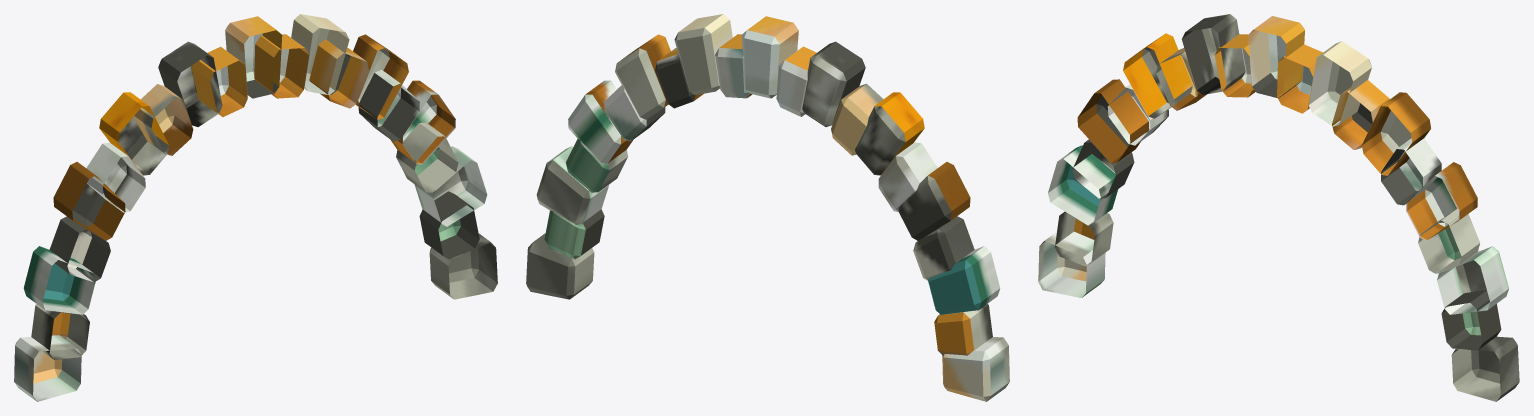
The model's file is RockBridgeArch.fbx.
The picture shows the model from 3 angles, left to right: view 1: azimuth 30°, elevation 25°; view 2: azimuth 150°, elevation 25°; view 3: azimuth 330°, elevation 25°; orthographic projection.
Visible parts, largest first — view 1: RockBridgeArch; view 2: RockBridgeArch; view 3: RockBridgeArch.
Part boxes in pixels (x1,y1,x2,y2): RockBridgeArch: [14, 14, 497, 401]; RockBridgeArch: [526, 14, 1009, 401]; RockBridgeArch: [1038, 14, 1519, 401].
Bounding box in the file's own units: 10.43 × 6.75 × 0.8587.
